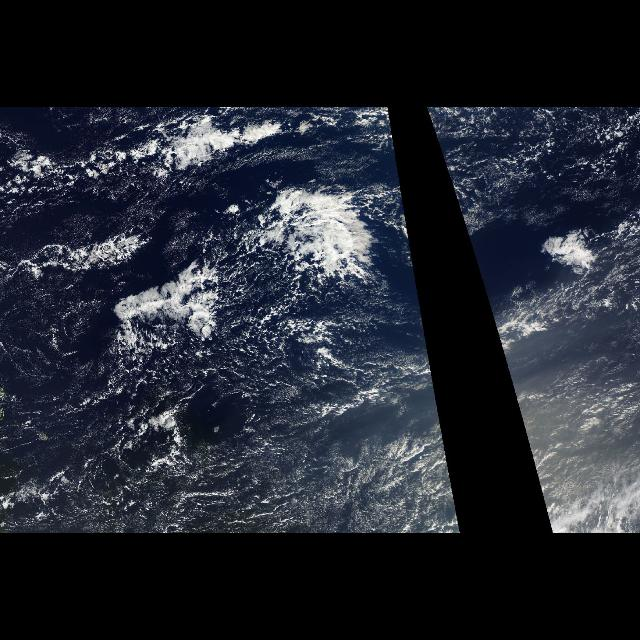Fish: (5, 110, 398, 382)
Gravel: (44, 325, 402, 533)
Sugar: (23, 363, 461, 533), (505, 363, 629, 533)
